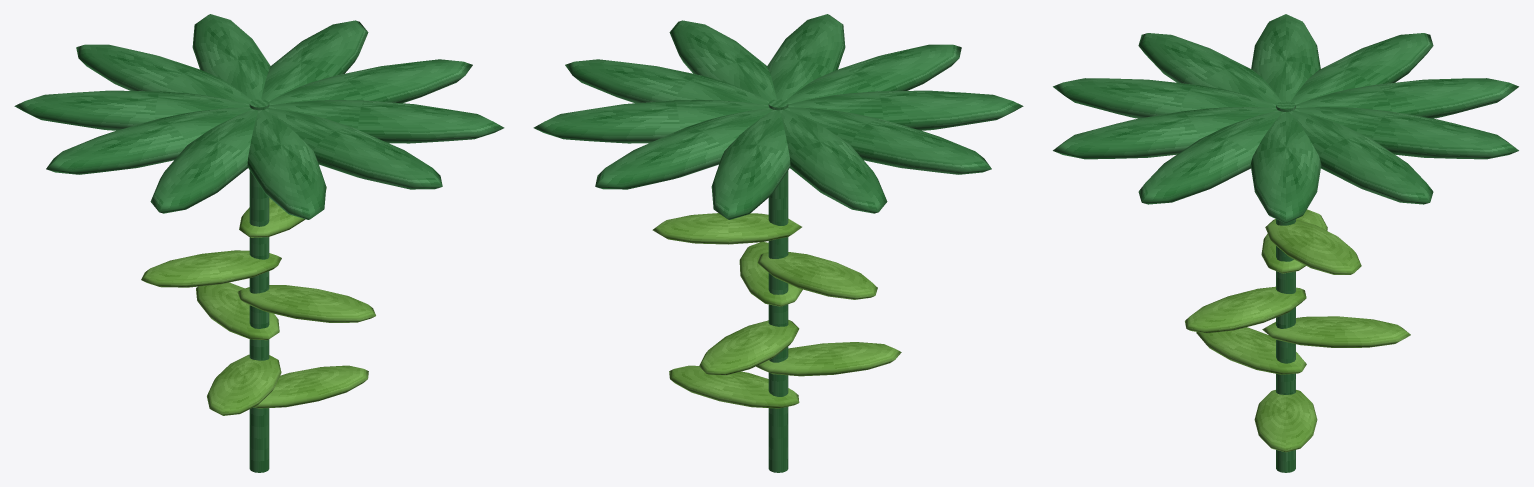
Rendered from young-palm.glb.
3 views of the same model, side by side, from view 1: azimuth 30°, elevation 25°; view 2: azimuth 150°, elevation 25°; view 3: azimuth 270°, elevation 25° (orthographic).
Visible parts, largest first — view 1: canopy leaf (×10), leaf (×6), stem; view 2: canopy leaf (×10), leaf (×6), stem; view 3: canopy leaf (×10), leaf (×6), stem.
Part boxes in pixels (x1=…): canopy leaf (×10): x1=14, y1=14, x2=504, y2=219; leaf (×6): x1=141, y1=187, x2=375, y2=415; stem: x1=249, y1=99, x2=269, y2=472; canopy leaf (×10): x1=533, y1=14, x2=1023, y2=219; leaf (×6): x1=652, y1=213, x2=901, y2=408; stem: x1=768, y1=99, x2=788, y2=472; canopy leaf (×10): x1=1053, y1=14, x2=1518, y2=223; leaf (×6): x1=1185, y1=209, x2=1410, y2=452; stem: x1=1276, y1=101, x2=1295, y2=472.
Bounding box in the file's own units: 1.64 × 1.34 × 1.56.
2 materials, 2 textured.
